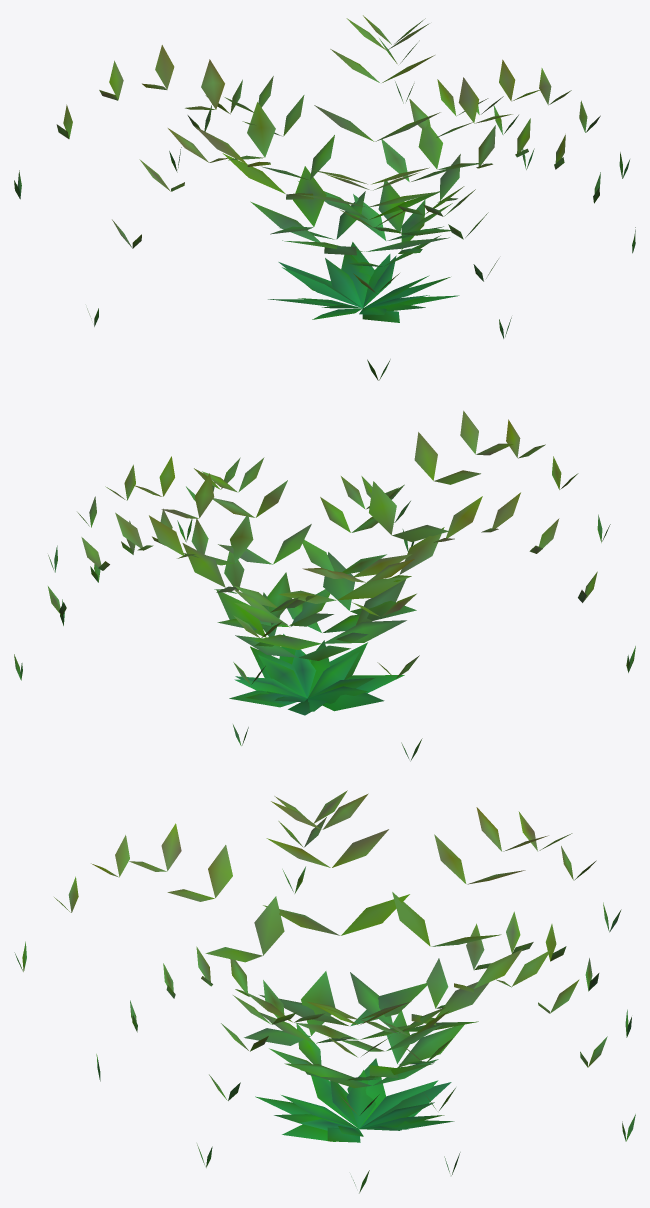
Rendered from Fern_A.fbx.
3 views of the same model, one above another, from view 1: azimuth 30°, elevation 25°; view 2: azimuth 150°, elevation 25°; view 3: azimuth 270°, elevation 25° (orthographic). The views are drawn at different scales.
Parts seen in each view (by area): view 1: Fern_A; view 2: Fern_A; view 3: Fern_A.
Boxes of the visible parts, x1,y1,x2,y2 form: Fern_A: (14,15,635,380); Fern_A: (14,410,635,761); Fern_A: (14,790,635,1193).
Size of the model in its own units: 0.5998 by 0.2312 by 0.5397.
